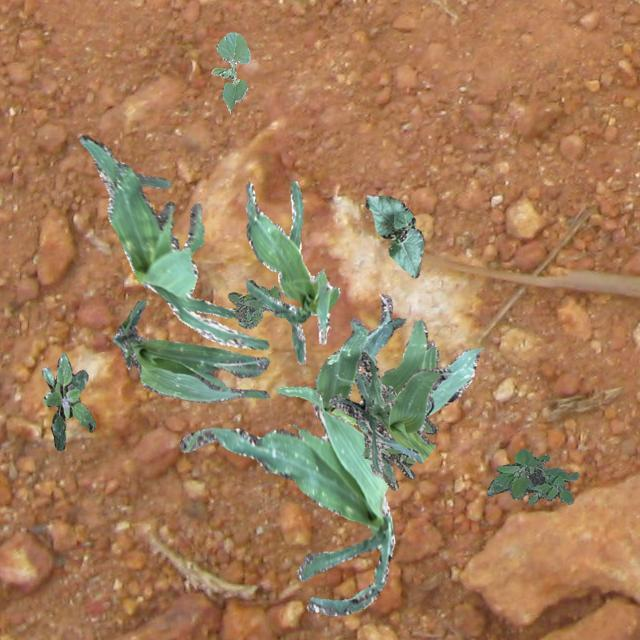crop: (178, 386, 394, 614), (79, 134, 268, 348), (313, 292, 481, 424), (328, 316, 452, 476), (244, 180, 338, 364), (112, 299, 268, 402), (364, 194, 422, 276), (210, 31, 248, 110)
weed: (355, 384, 437, 488), (40, 352, 94, 449), (486, 448, 578, 503), (226, 286, 278, 328)
